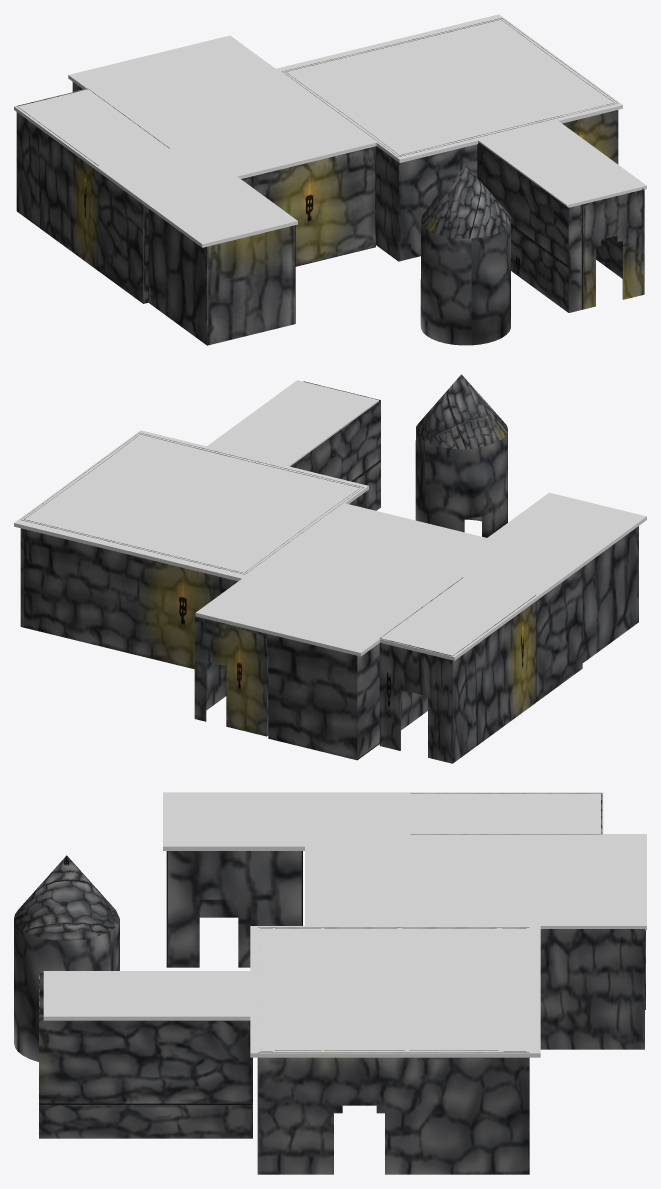
File: castillo.fbx
The picture shows the model from 3 angles, top to bottom: view 1: azimuth 30°, elevation 25°; view 2: azimuth 150°, elevation 25°; view 3: azimuth 270°, elevation 25°; orthographic projection. The views are drawn at different scales.
Parts seen in each view (by area): view 1: Plane, Entrada, CorredorConectadoaSala, CuartoAislado, Torre, SalaPrincipal, SalidadePasillo; view 2: Plane, SalaPrincipal, SalidadePasillo, Torre, CantinaB, CantinaC, CuartoAislado, CorredorConectadoaSala, Entrada; view 3: Plane, SalaPrincipal, Entrada, CantinaC, CuartoAislado, Torre.
Boxes of the visible parts, bbox=[...] form: Plane: bbox=[14, 14, 646, 247]; Entrada: bbox=[477, 142, 644, 312]; CorredorConectadoaSala: bbox=[98, 146, 375, 303]; CuartoAislado: bbox=[148, 209, 295, 345]; Torre: bbox=[420, 165, 510, 345]; SalaPrincipal: bbox=[282, 18, 618, 261]; SalidadePasillo: bbox=[16, 88, 169, 270]; Plane: bbox=[14, 380, 646, 660]; SalaPrincipal: bbox=[20, 432, 363, 669]; SalidadePasillo: bbox=[379, 577, 536, 763]; Torre: bbox=[415, 374, 507, 537]; CantinaB: bbox=[268, 634, 379, 760]; CantinaC: bbox=[194, 613, 268, 736]; CuartoAislado: bbox=[582, 526, 638, 662]; CorredorConectadoaSala: bbox=[536, 567, 582, 701]; Entrada: bbox=[290, 381, 380, 510]; Plane: bbox=[43, 792, 646, 1057]; SalaPrincipal: bbox=[257, 927, 529, 1174]; Entrada: bbox=[39, 972, 252, 1138]; CantinaC: bbox=[540, 928, 644, 1049]; CuartoAislado: bbox=[166, 851, 302, 967]; Torre: bbox=[14, 855, 119, 1061].
Size of what is drawn, in the model's own units: 362 by 122 by 371.
